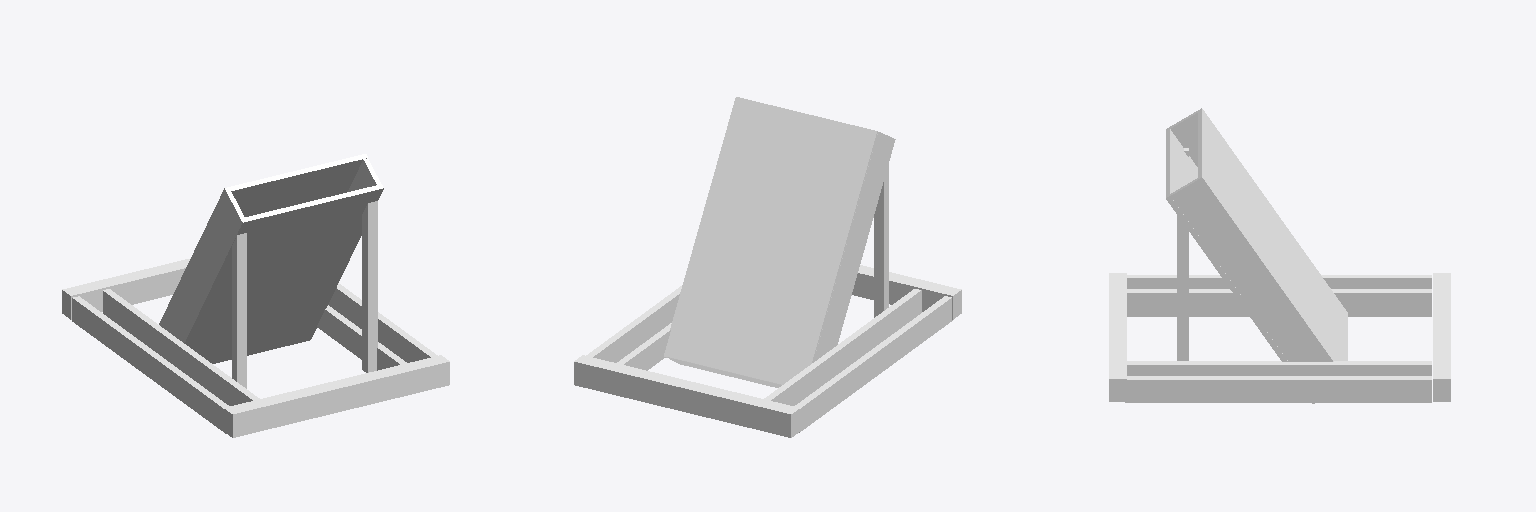
Rendered from Kitbot_Mesh.obj.
The picture shows the model from 3 angles: view 1: azimuth 30°, elevation 25°; view 2: azimuth 150°, elevation 25°; view 3: azimuth 270°, elevation 25°; orthographic projection.
Visible parts, largest first — view 1: Kitbot_Mesh; view 2: Kitbot_Mesh; view 3: Kitbot_Mesh.
Part boxes in pixels (x1,y1,x2,y2): Kitbot_Mesh: (62,154,449,437); Kitbot_Mesh: (574,97,961,437); Kitbot_Mesh: (1109,108,1450,403).
Bounding box in the file's own units: 2.21 × 2.21 × 3.